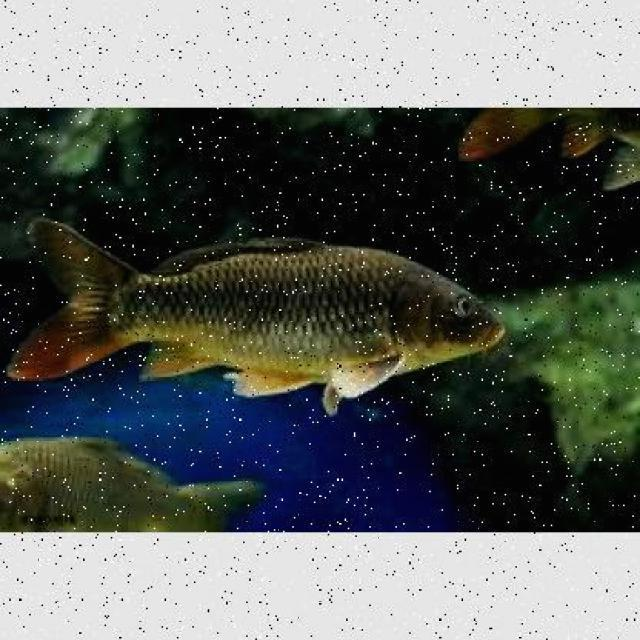ikan-mas: (24, 215, 510, 400)
